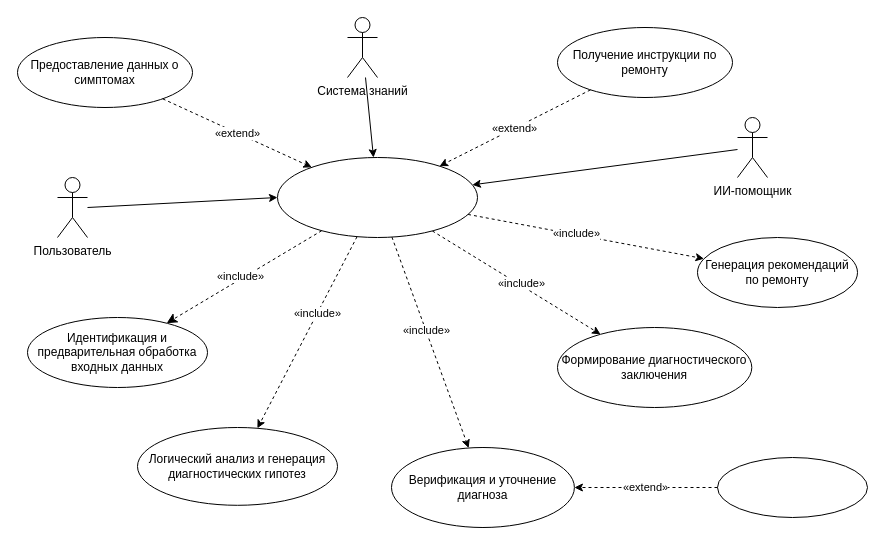
Some shapes in this 885 by 545 pixel diagram are drawn without their labels. The box of each missing label's shape, as (x1, y1, x2, y2) in pixels:
Ответ на уточняющие вопросы: (716, 456, 868, 518)
Проведение диагностики неисправности: (276, 156, 478, 238)
